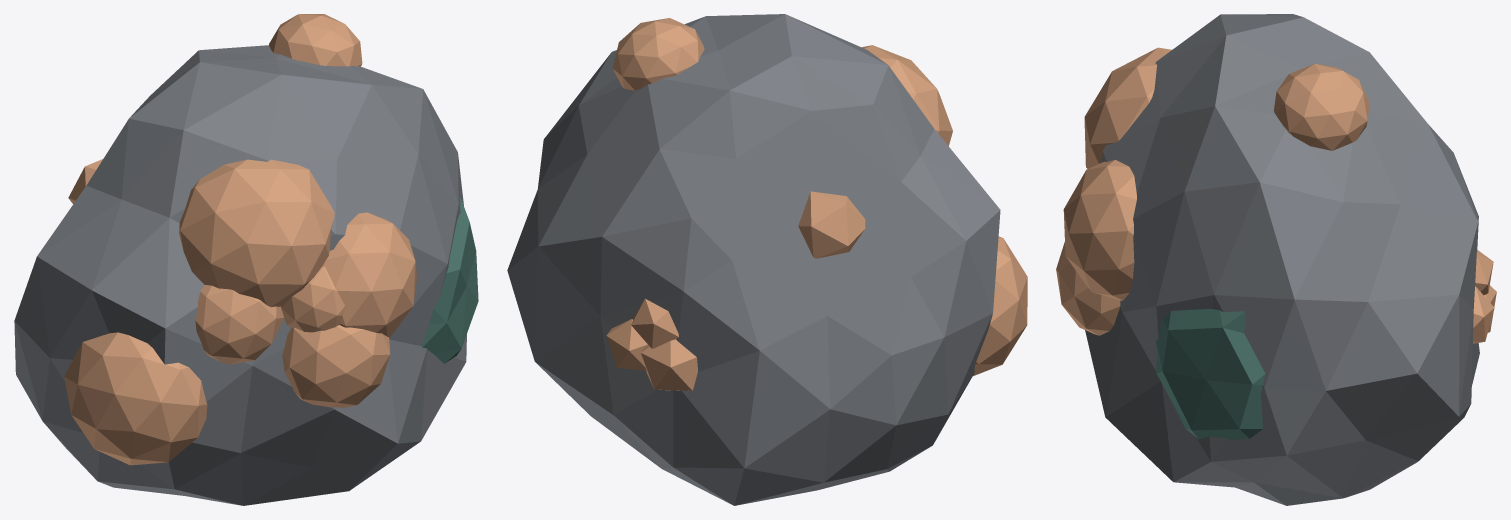
File: copper_ore.glb
3 views of the same model, side by side, from view 1: azimuth 30°, elevation 25°; view 2: azimuth 150°, elevation 25°; view 3: azimuth 270°, elevation 25° (orthographic). The views are drawn at different scales.
Visible parts, largest first — view 1: ore, copper; view 2: ore, copper; view 3: ore, copper.
Boxes of the visible parts, <box> form: ore: <box>14,45,466,505</box>; copper: <box>64,14,478,465</box>; ore: <box>507,14,1000,505</box>; copper: <box>606,18,1027,390</box>; ore: <box>1085,14,1479,505</box>; copper: <box>1056,47,1496,439</box>.
Size of the model in its own units: 0.1956 by 0.1775 by 0.1679.
